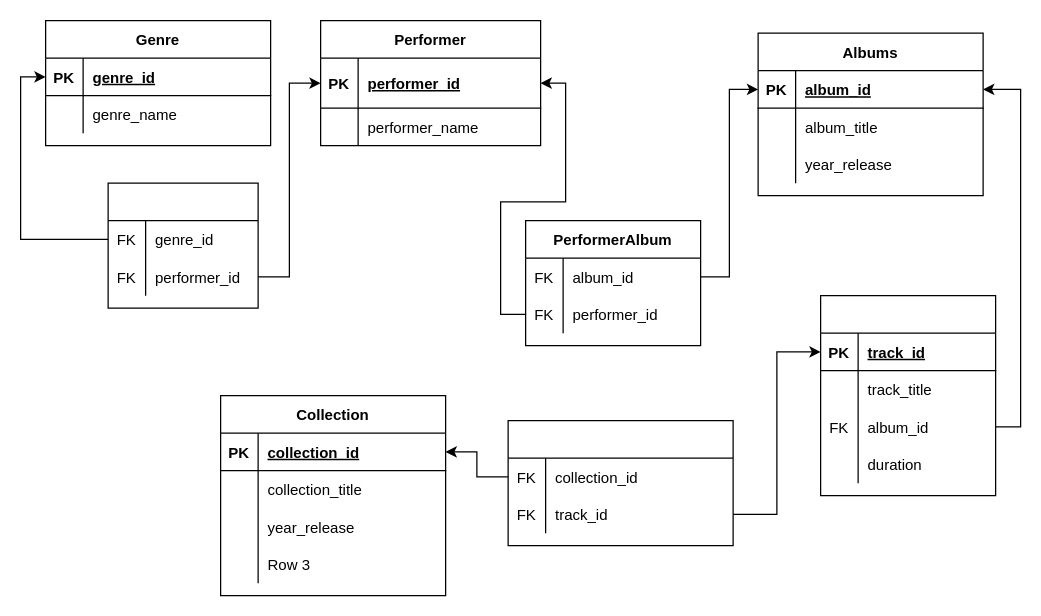
The diagram is 1041 pixels wide and 616 high, and some of its shapes have lost their labels. The shapes that lost their labels are listed below. From the top down, each one's box as (x1, y1, x2, y2) in pixels, then its label:
(107, 182, 258, 308): GenrePerformer
(819, 294, 996, 496): Tracks
(507, 419, 733, 546): CollectionTrack
